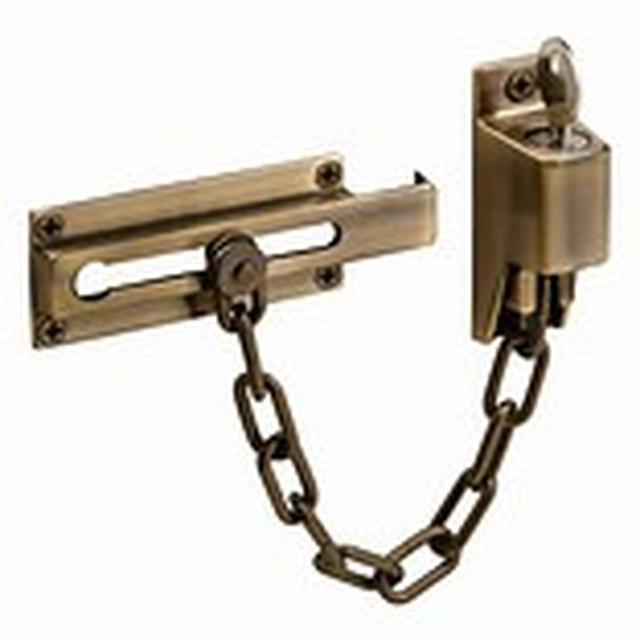key: (470, 7, 640, 179)
